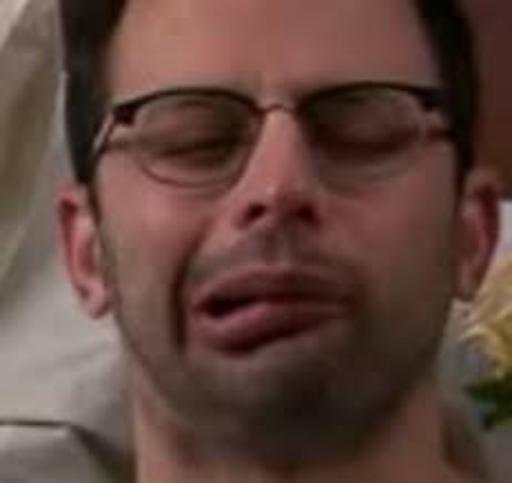left_eye: (319, 129, 406, 159)
left_lip_corner: (334, 283, 369, 319)
right_eye: (160, 131, 245, 162)
right_lip_corner: (193, 292, 220, 327)
